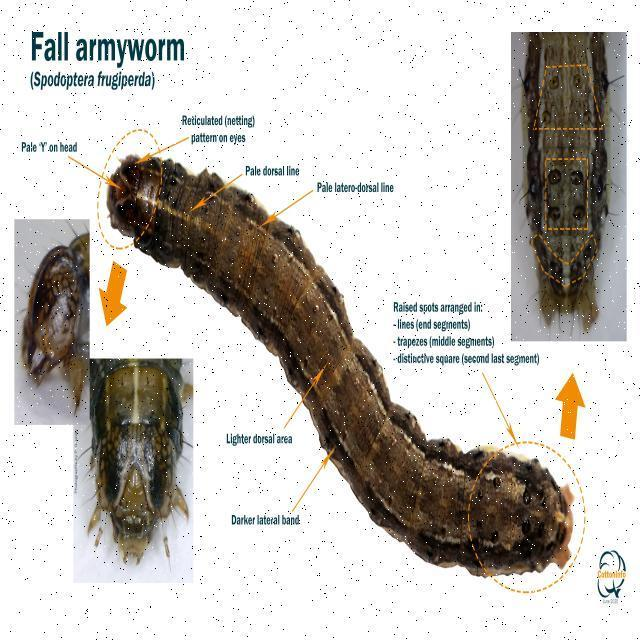army worm: (96, 119, 586, 583), (502, 24, 634, 349), (80, 366, 196, 581), (8, 215, 88, 424)
